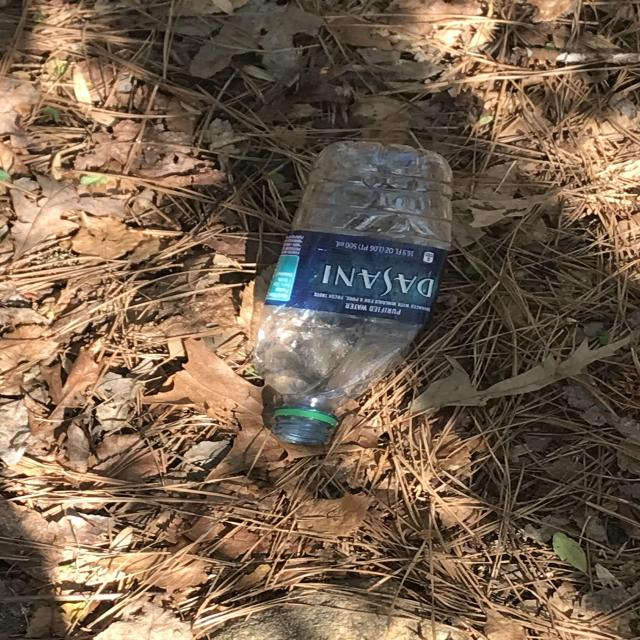litter: (249, 140, 463, 442)
